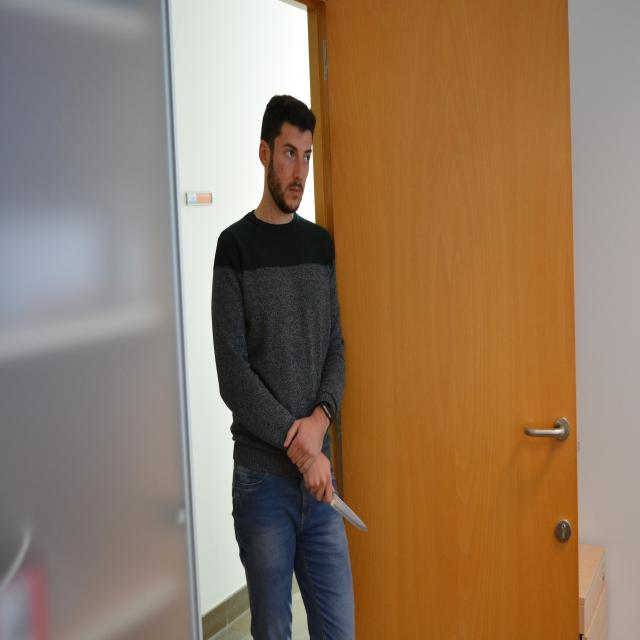knife: (330, 490, 370, 535)
